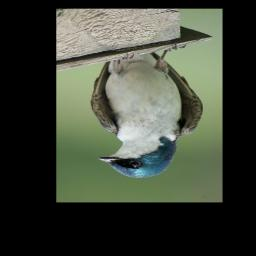Swallow: (89, 42, 203, 179)
